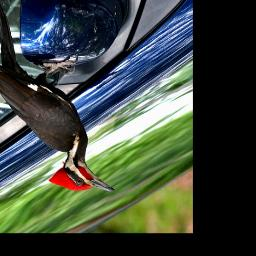Woodpecker: (0, 0, 117, 193)
